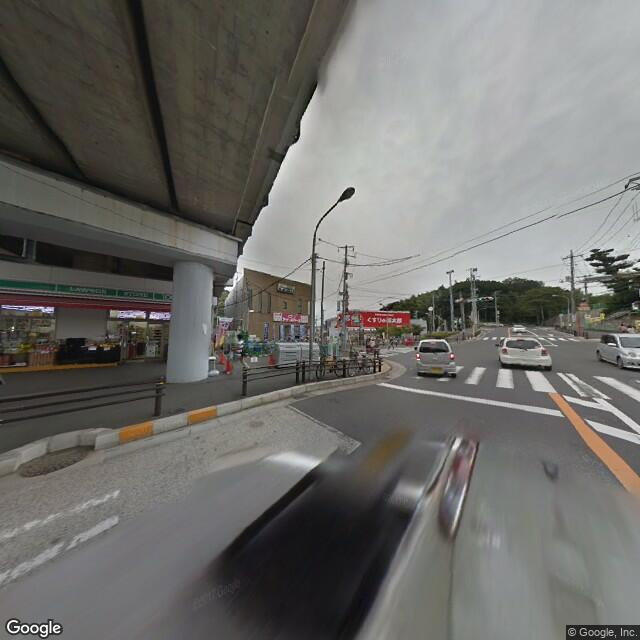lawson: (1, 276, 172, 309)
